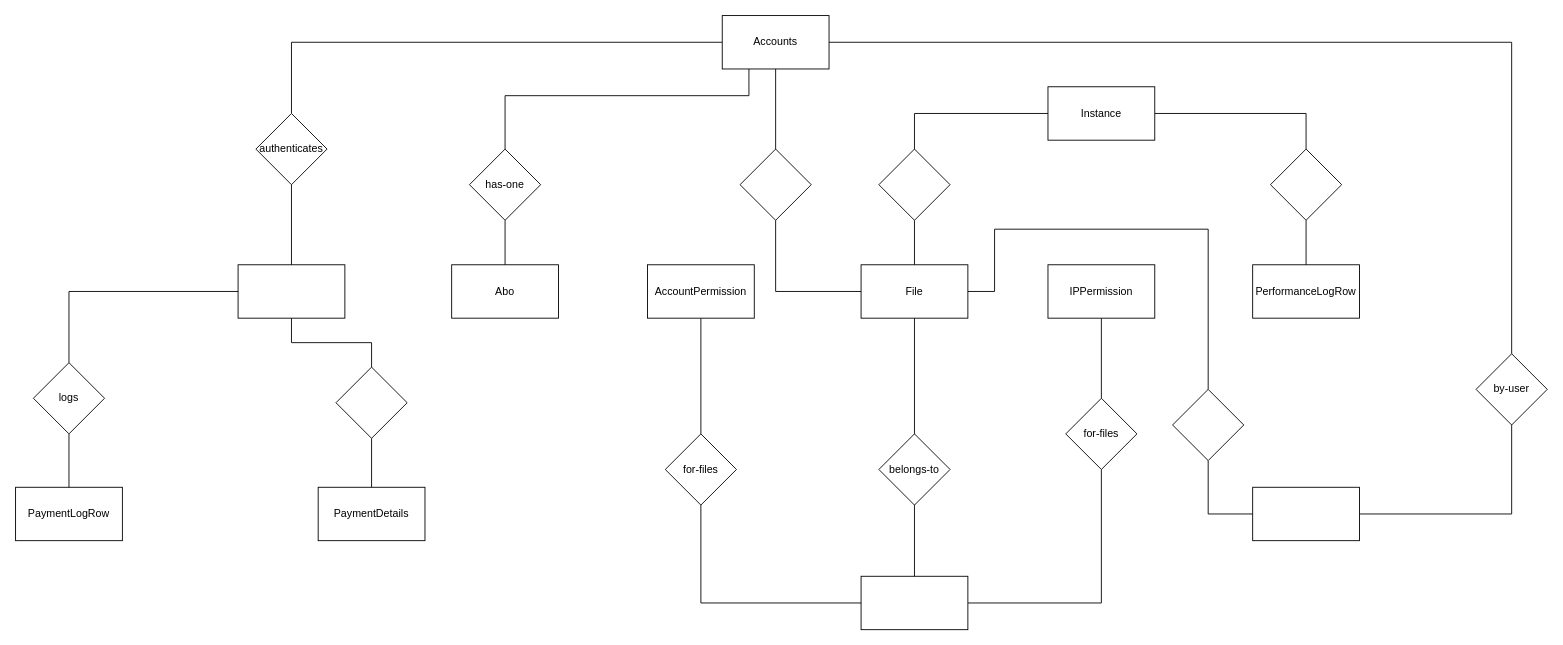
The diagram is 1563 pixels wide and 645 high, and some of its shapes have lost their labels. The shapes that lost their labels are listed below. From the top down, each one's centre as x and y in pixels, then its label:
the point at 775,184: has-permission
the point at 914,184: stored-on
the point at 1306,184: has
the point at 291,291: Password
the point at 371,402: uses
the point at 1208,424: logs-access
the point at 1305,513: AccessLogRow
the point at 914,602: FileGroup
